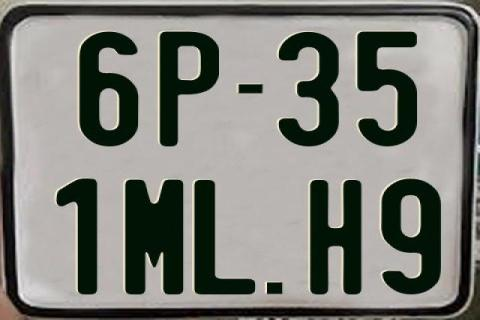0: (381, 178, 445, 298), (76, 32, 140, 150), (276, 32, 340, 148), (355, 30, 416, 148), (55, 177, 98, 297)
H: (310, 179, 362, 297)
L: (192, 180, 255, 298)
M: (124, 178, 185, 298)
P: (160, 29, 220, 145)
